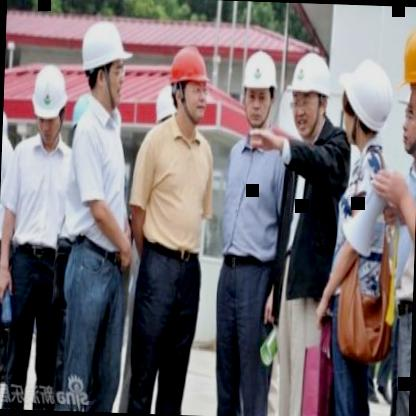helmet: (339, 59, 393, 158), (78, 14, 128, 110), (288, 50, 338, 138), (166, 43, 212, 126), (237, 48, 281, 131), (30, 60, 69, 152), (395, 14, 416, 133)
